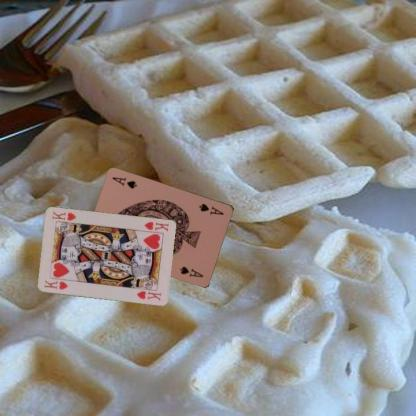As: (196, 201, 226, 216)
Kh: (141, 219, 170, 233), (42, 277, 69, 292)
